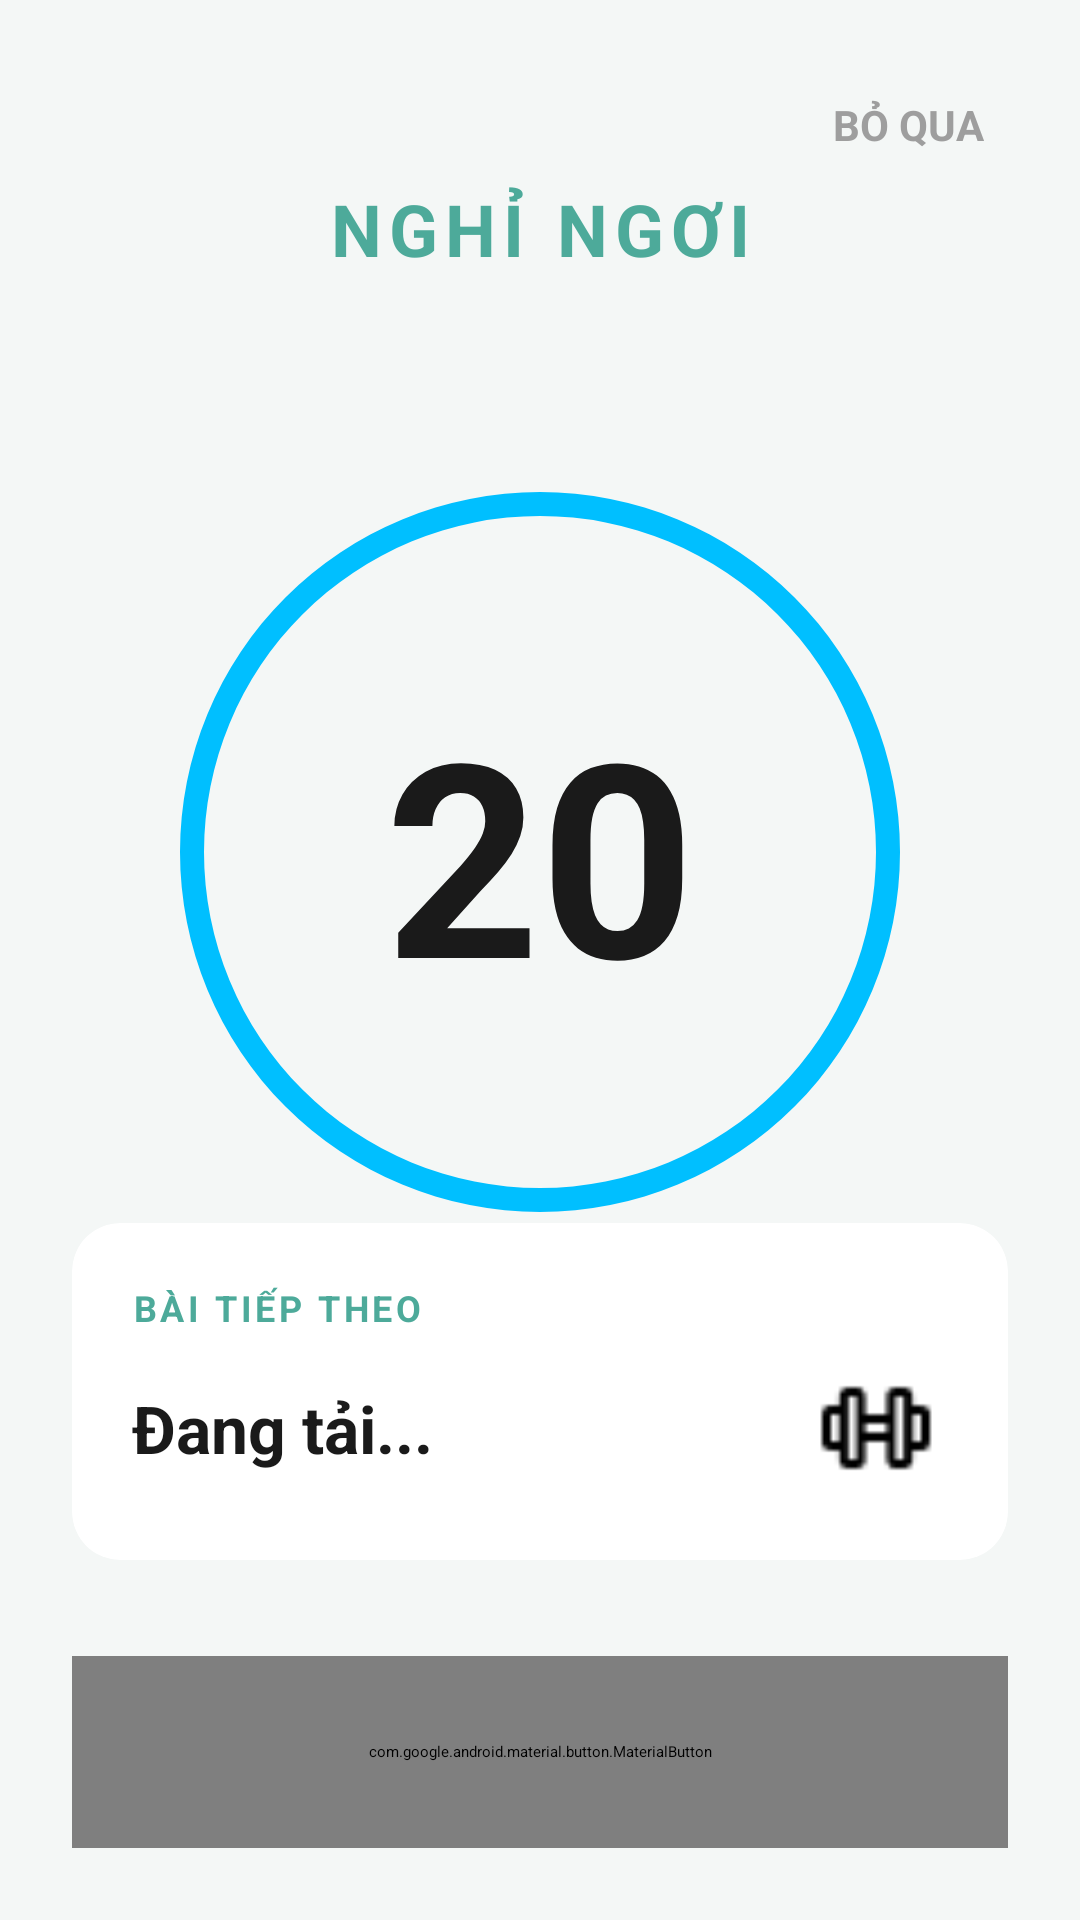

Where icons sit on this 1080×1920 app screen, as bbox=[x1, y1, x2, y2]:
workout: bbox=[820, 1386, 932, 1470]
